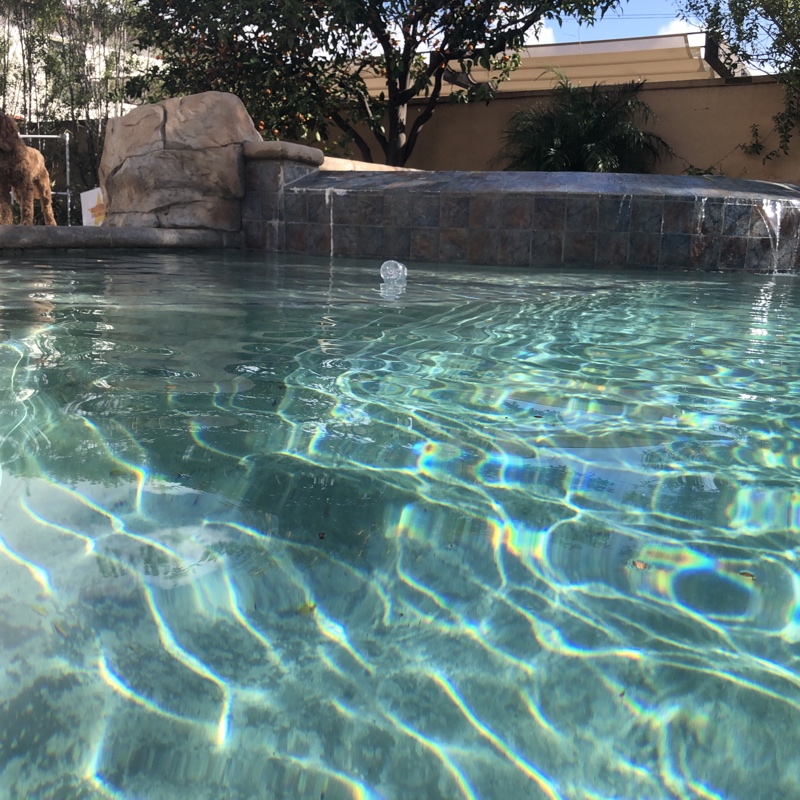Plastic Bottle: (377, 259, 408, 286)
